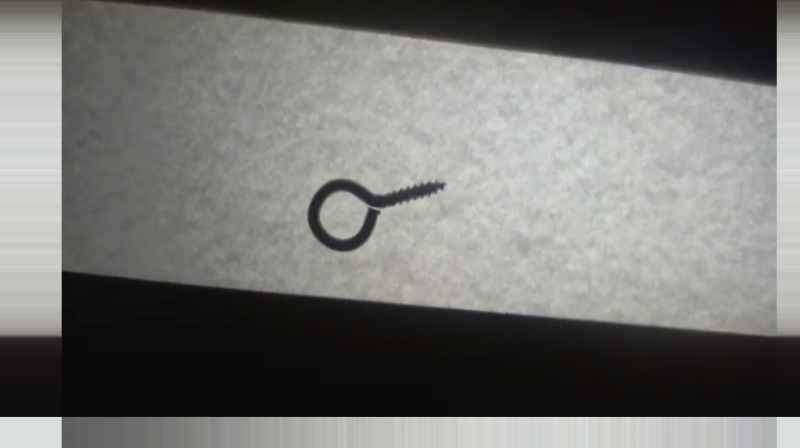O001: (304, 178, 448, 255)
